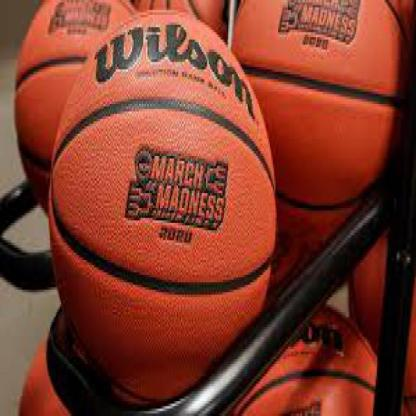basketball: (47, 10, 276, 406), (228, 0, 414, 235), (17, 0, 142, 218), (228, 300, 395, 414)
